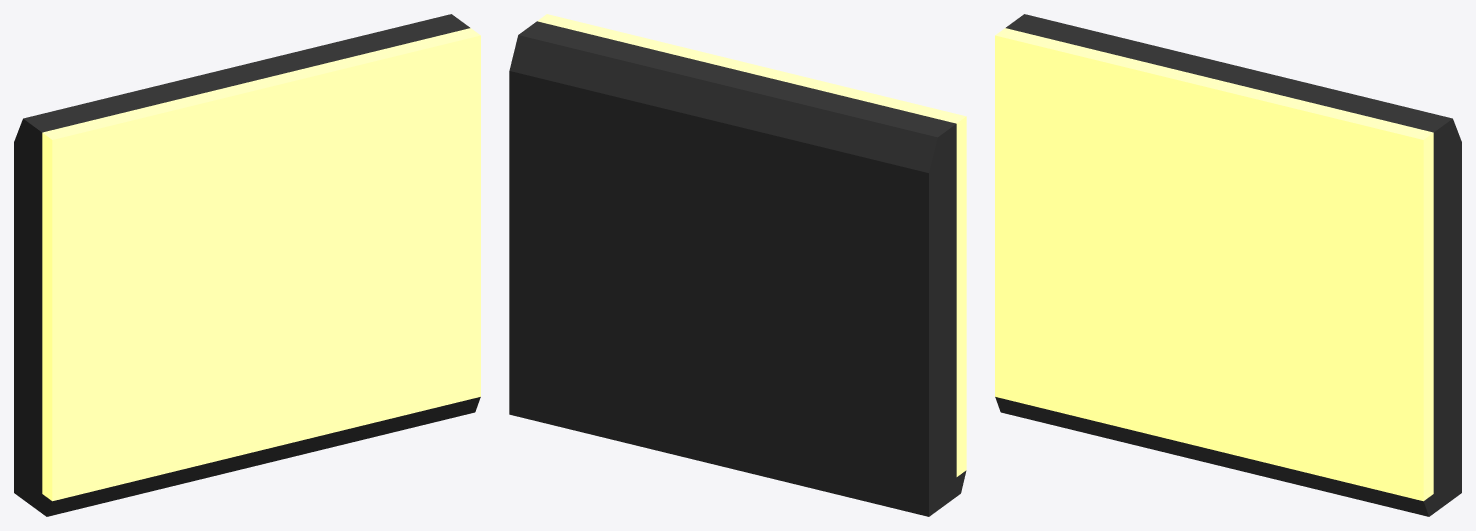
File: Tripod_Light_A_1.fbx
The picture shows the model from 3 angles, left to right: view 1: azimuth 30°, elevation 25°; view 2: azimuth 150°, elevation 25°; view 3: azimuth 330°, elevation 25°; orthographic projection. The views are drawn at different scales.
Visible parts, largest first — view 1: Tripod Light A 1; view 2: Tripod Light A 1; view 3: Tripod Light A 1.
Part boxes in pixels (x1,y1,x2,y2): Tripod Light A 1: (14,14,480,516); Tripod Light A 1: (509,14,966,516); Tripod Light A 1: (995,14,1461,516).
Size of the model in its own units: 33.75 by 28.68 by 5.23.
